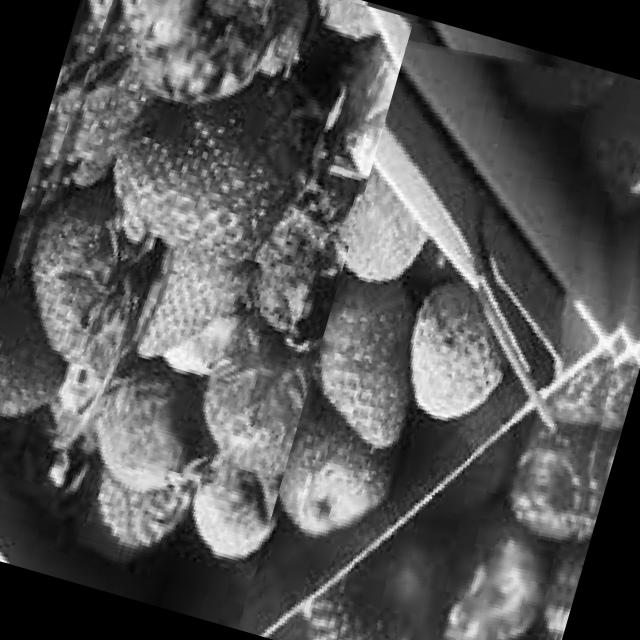Organic: (236, 14, 640, 640), (0, 0, 413, 591)
